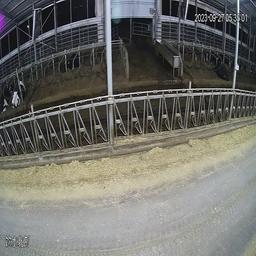cow: (10, 73, 28, 110), (209, 52, 230, 82), (61, 46, 80, 74), (2, 74, 14, 115)
